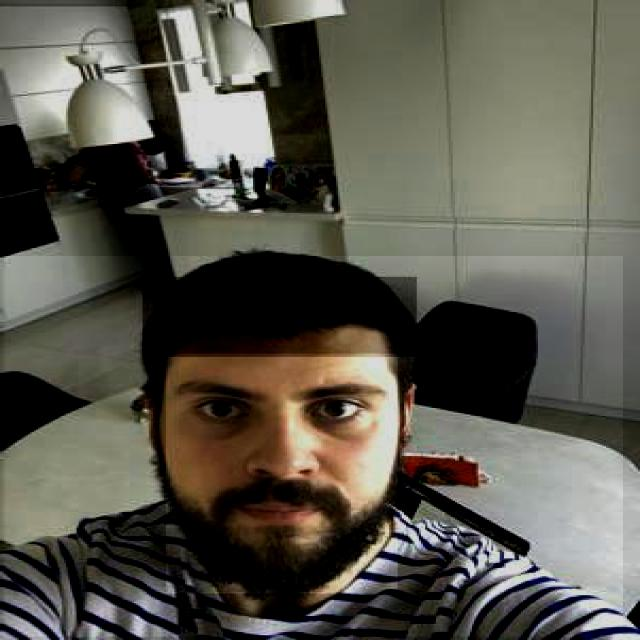face_nomask: (164, 354, 398, 595)
head_nohelmet: (142, 277, 417, 357)
person: (2, 256, 623, 638)
